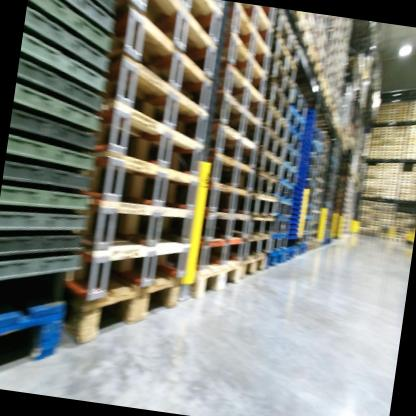pallet: (51, 254, 189, 364), (96, 5, 223, 114), (60, 226, 193, 320), (88, 95, 211, 189), (73, 189, 198, 278), (95, 57, 213, 141), (102, 0, 223, 81), (83, 147, 206, 213), (0, 288, 76, 379), (216, 3, 277, 76), (212, 30, 273, 100), (211, 63, 269, 127), (187, 257, 246, 306), (220, 2, 277, 51), (188, 230, 245, 278), (199, 202, 249, 256), (208, 100, 264, 148), (197, 153, 255, 199), (157, 0, 219, 41), (206, 123, 259, 169), (257, 66, 296, 121), (200, 176, 252, 217), (258, 94, 292, 139), (265, 55, 298, 99), (270, 34, 300, 80), (255, 123, 290, 162), (236, 233, 272, 269), (273, 14, 301, 58), (245, 194, 278, 224), (256, 147, 285, 181), (232, 251, 268, 277), (244, 215, 277, 243), (252, 171, 283, 200), (282, 103, 306, 138), (290, 86, 311, 123), (283, 128, 306, 158), (269, 212, 295, 237), (280, 142, 302, 168), (275, 176, 298, 200), (272, 197, 295, 221), (278, 167, 298, 190), (264, 246, 284, 269), (268, 233, 290, 250)
